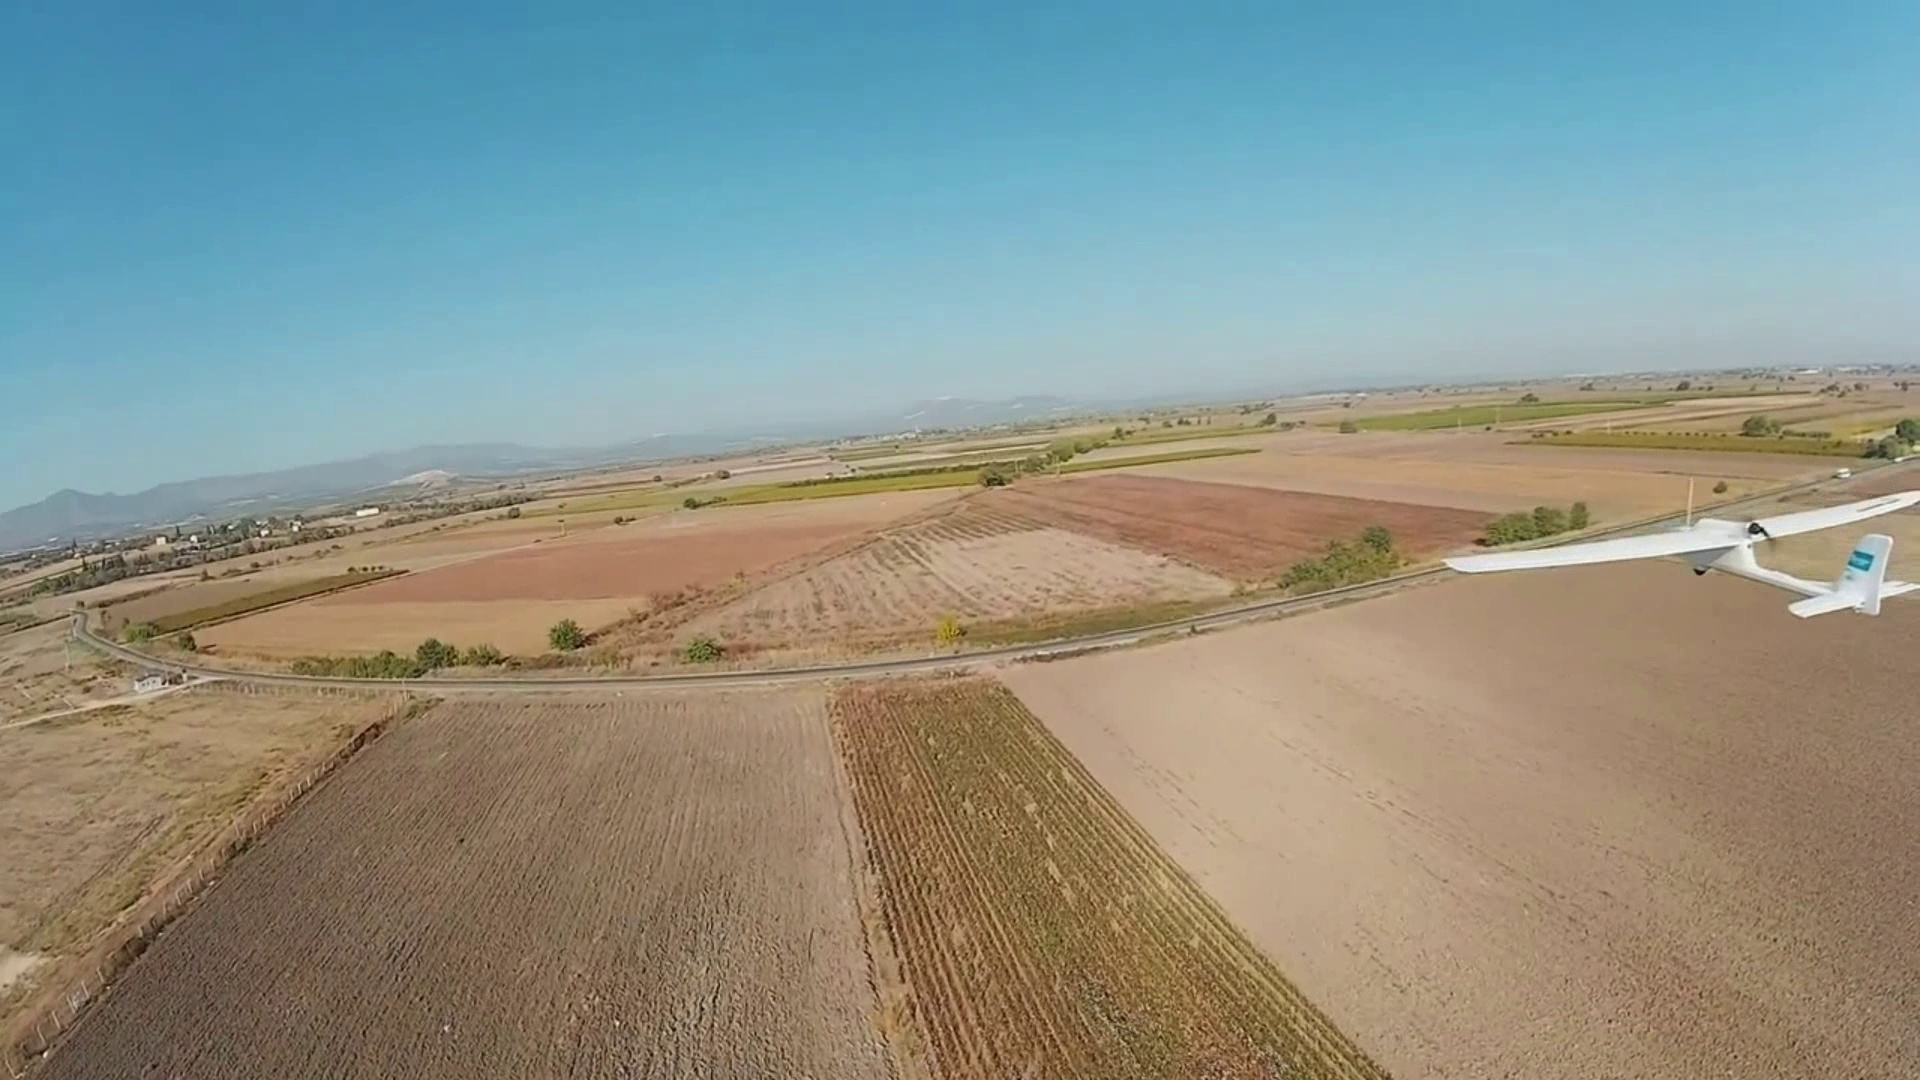airplane: (1441, 469, 1917, 617)
